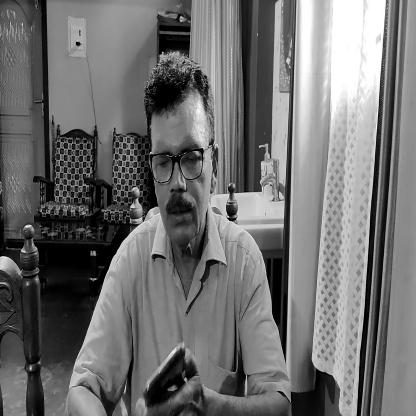Normal: (142, 56, 215, 247)
